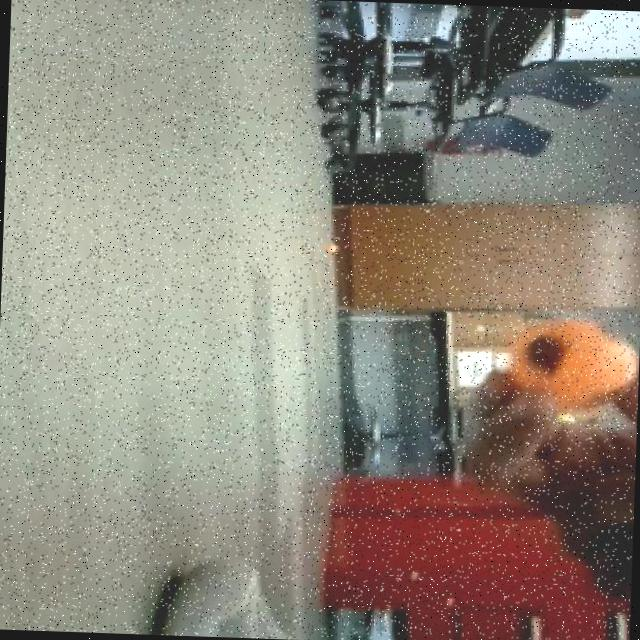ping-pong-ball: (499, 311, 640, 418), (317, 237, 342, 258)
